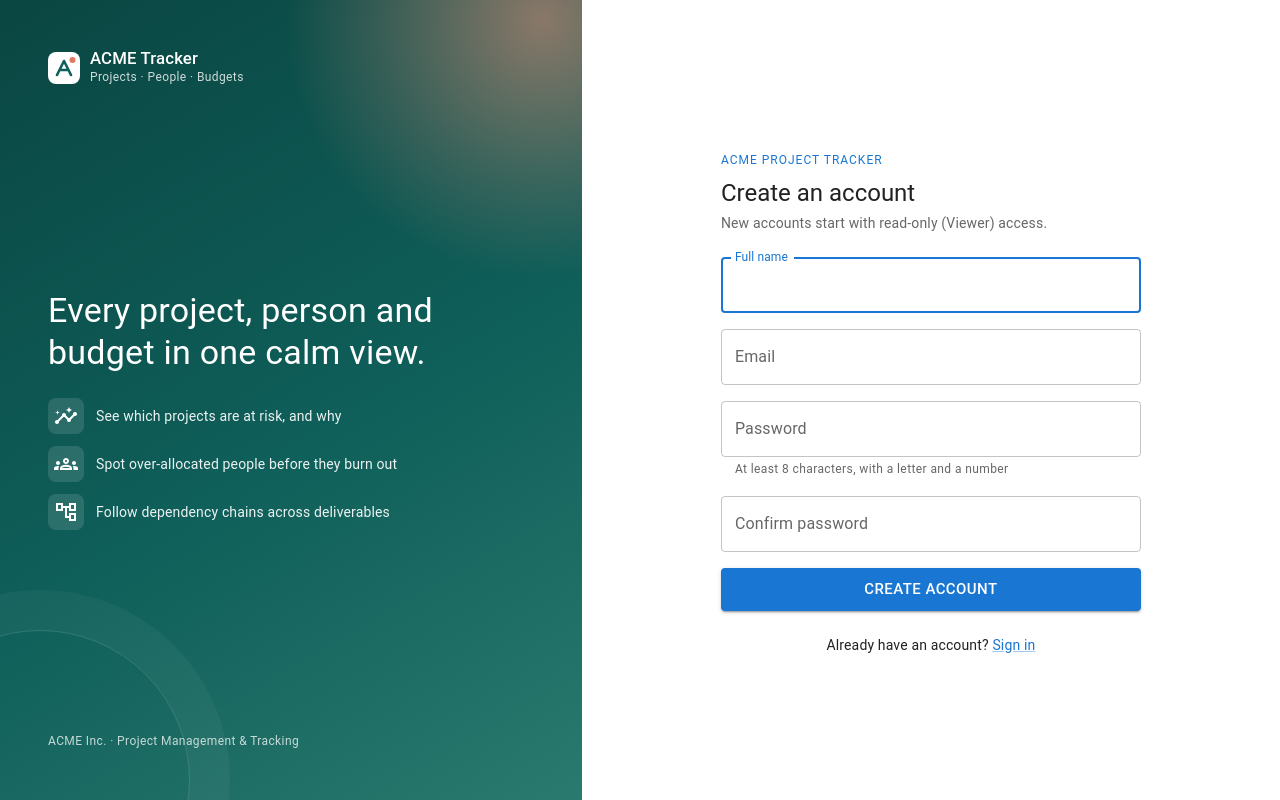
Test: rejects password short1
The width and height of the screenshot is (1280, 800).
In the field labelled "Full name": (931, 285) [721,257,1141,313], type "Nina New"
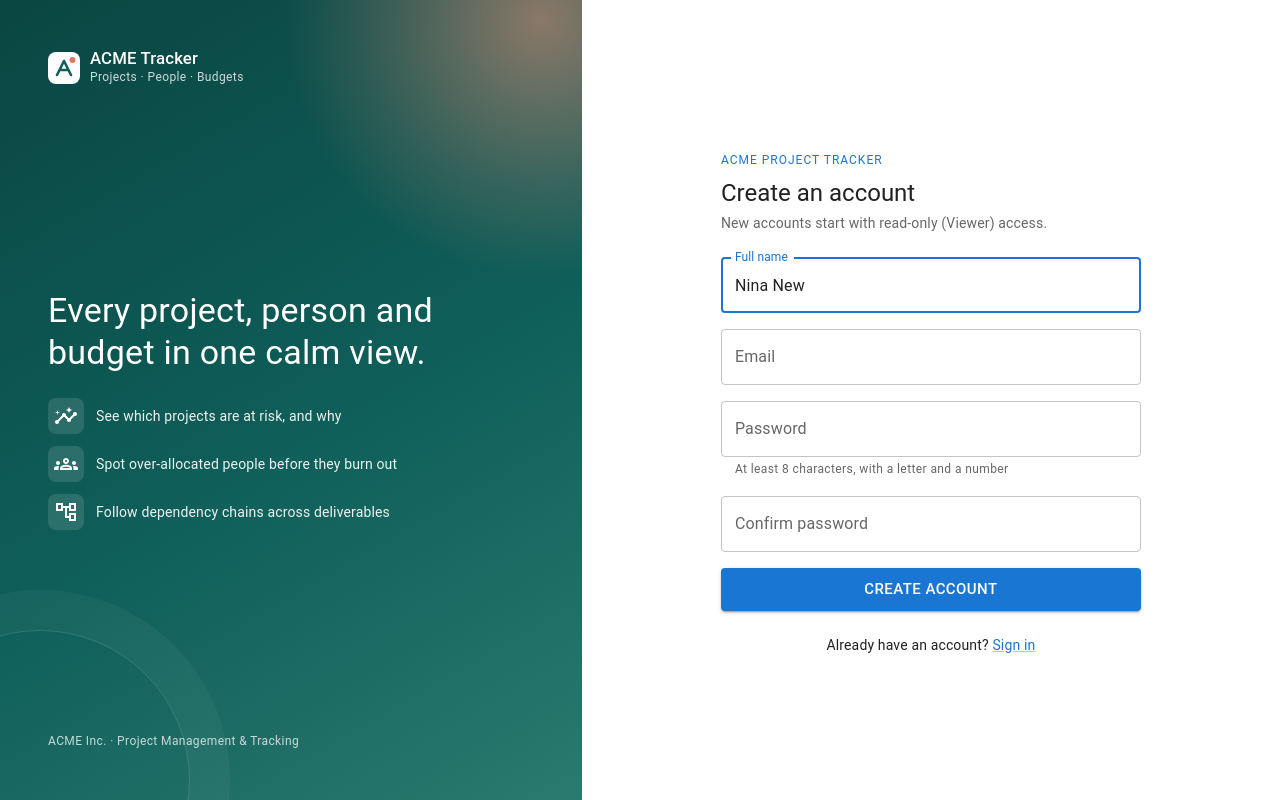
In the field labelled "Email": (931, 357) [721,329,1141,385], type "nina@acme.com"
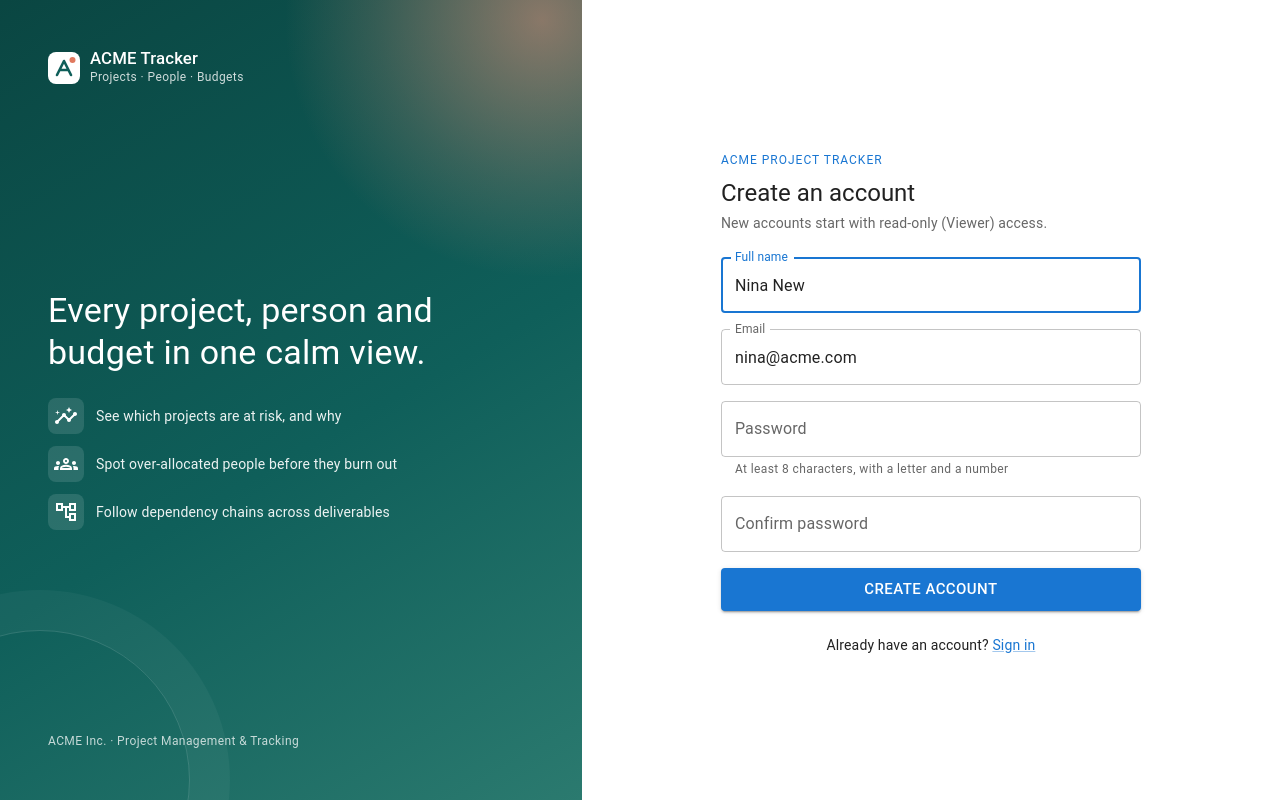
In the password field labelled "Password": (931, 429) [721,401,1141,457], type "short1"
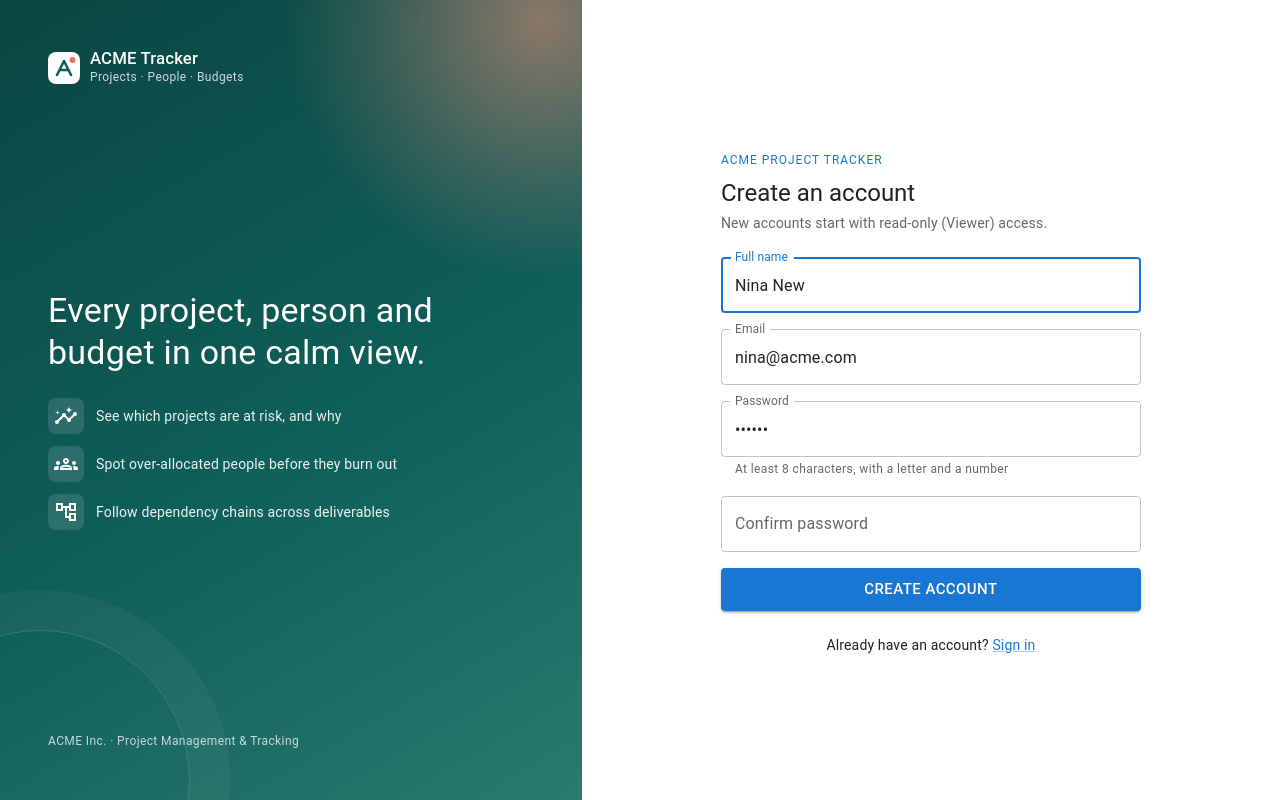
In the password field labelled "Confirm password": (931, 524) [721,496,1141,552], type "short1"
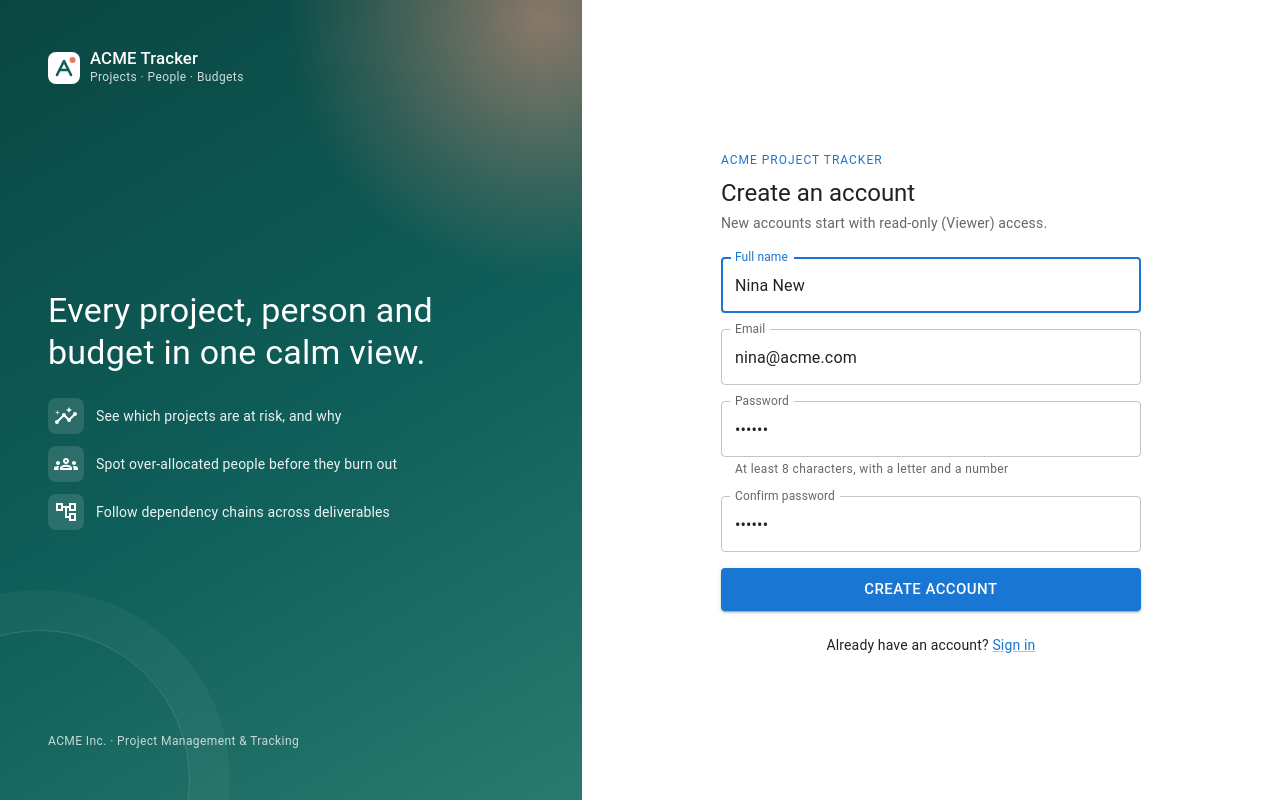
Click the button "Create account": (931, 589) [721,568,1141,611]
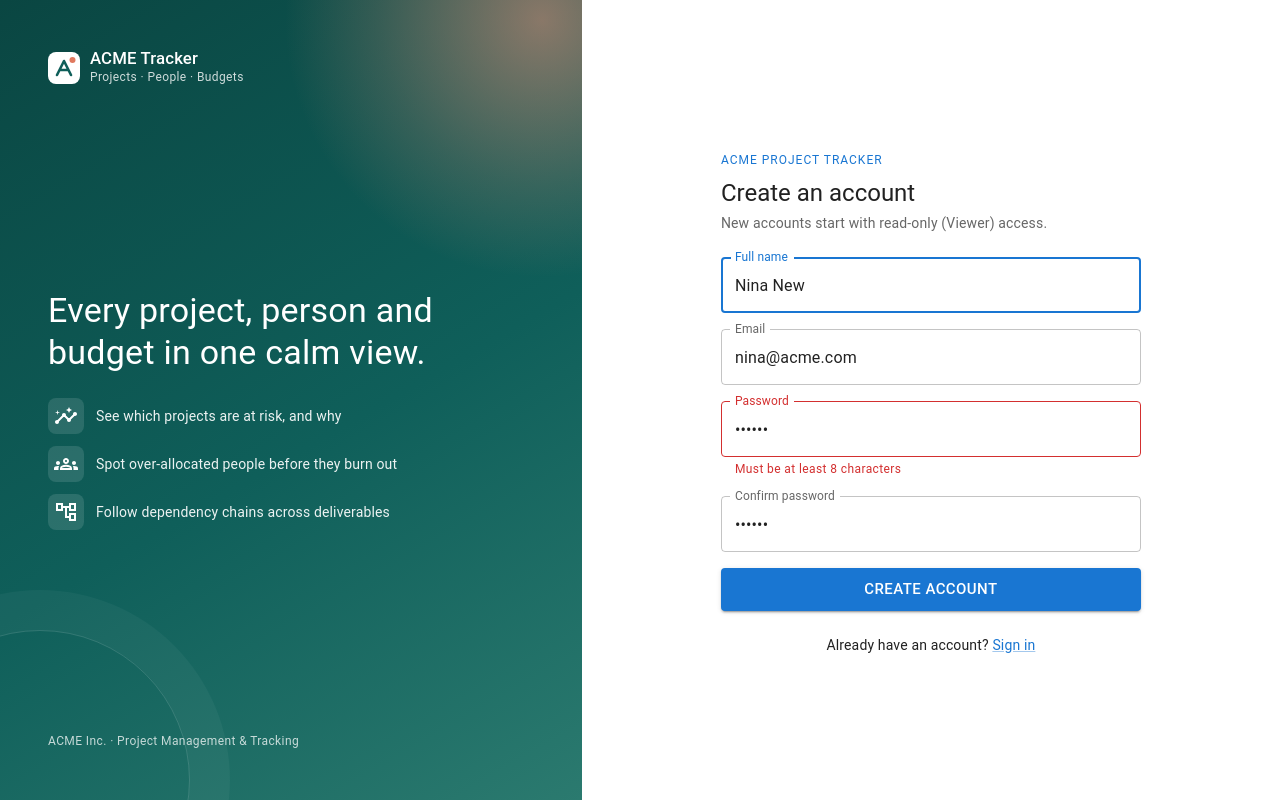
expect the text "Must be at least 8 characters" is shown: met, box [735,462,901,476]
